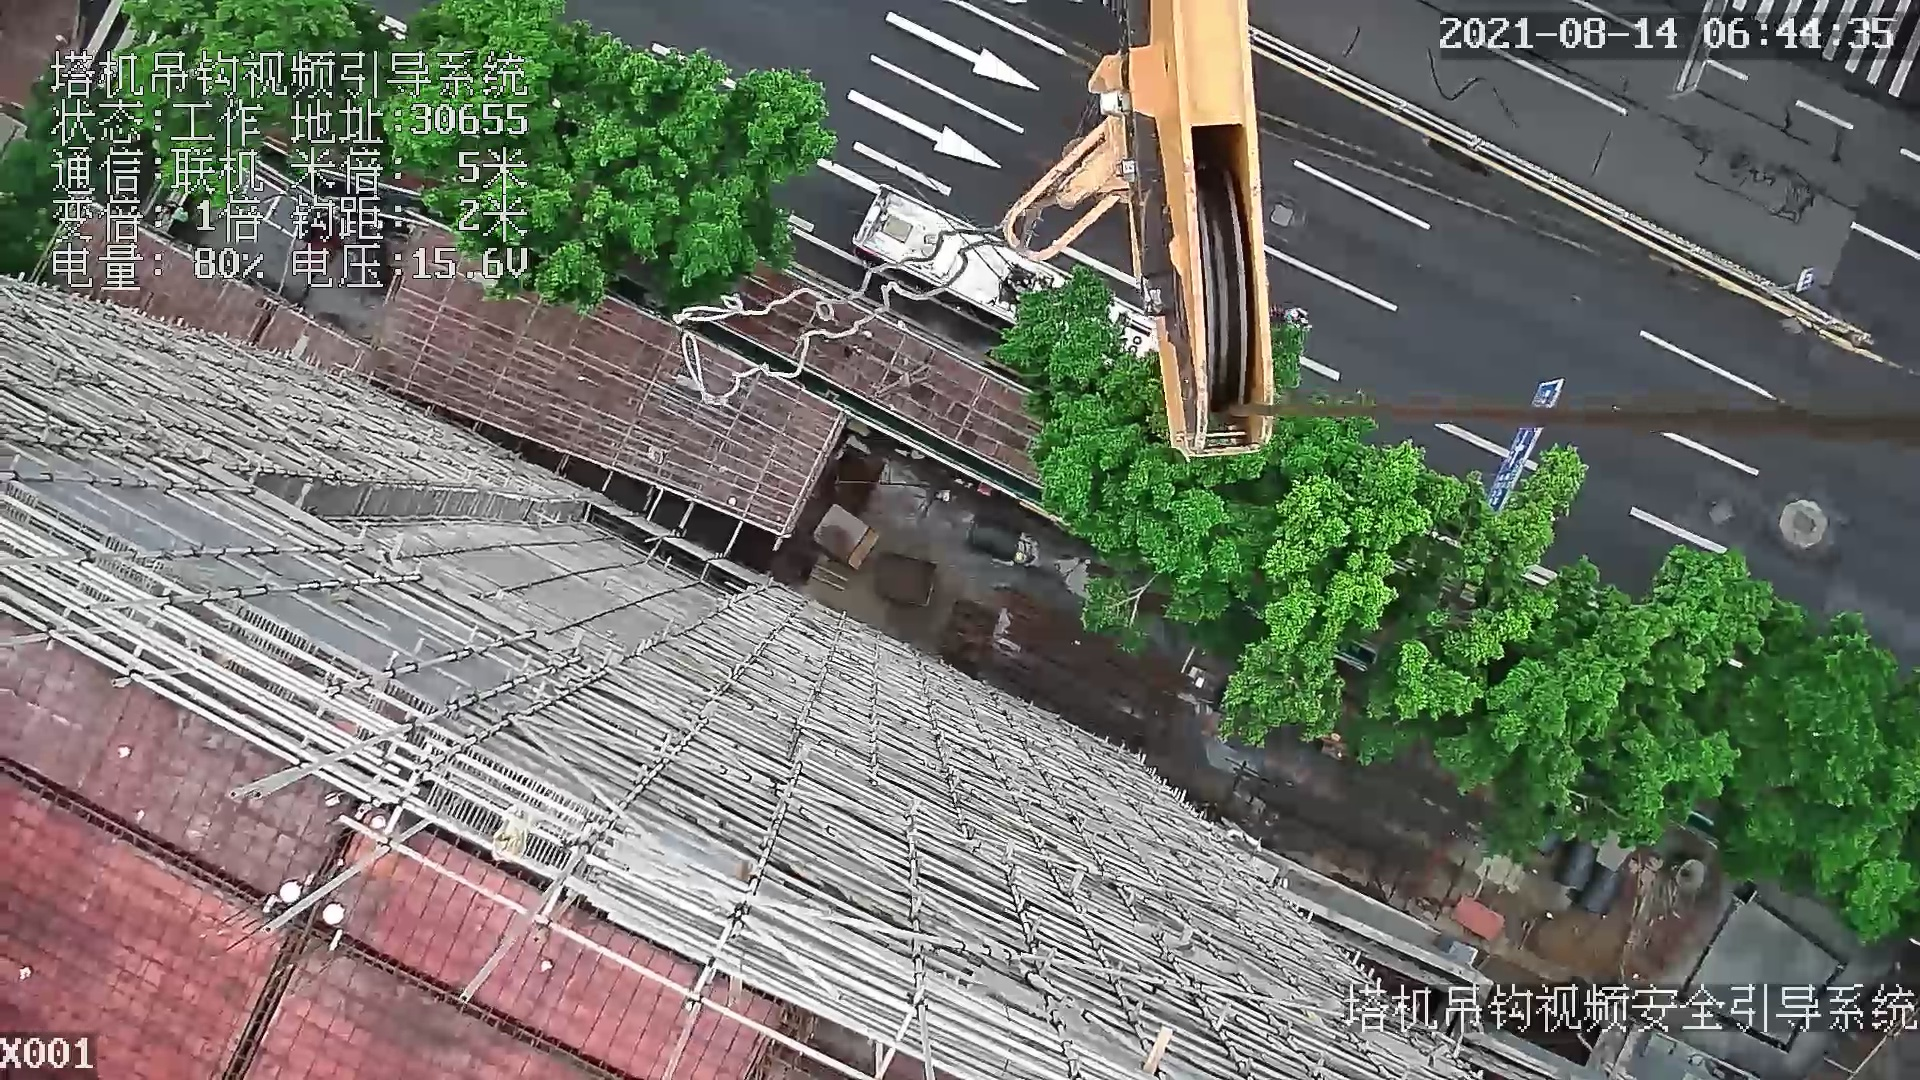hook: (997, 5, 1287, 459)
